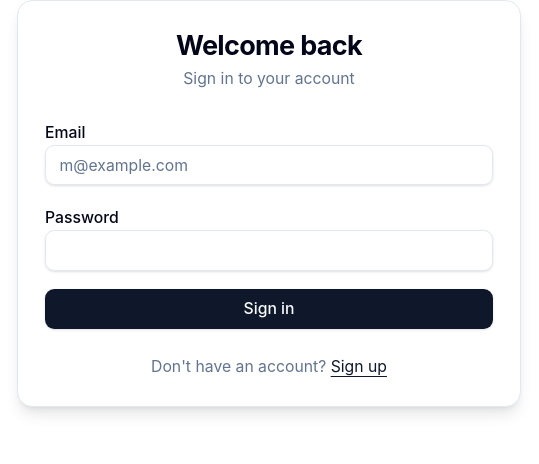
Test: LoginForm submission › sets field error when loginAsync rejects with field-level details
Type "user@example.com" into the field labelled "Email". click: {"x": 269, "y": 165}
box: [45, 145, 493, 186]
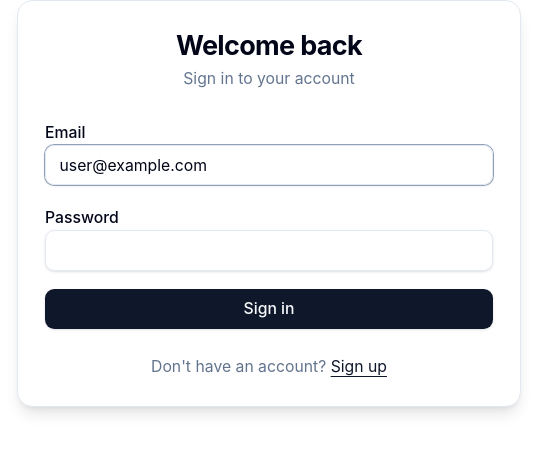
Type "ValidPass1!" into the password field labelled "Password". click: {"x": 269, "y": 251}
box: [45, 230, 493, 271]
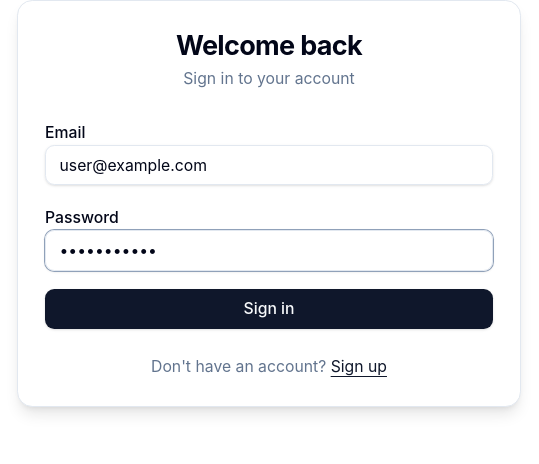
Click the button "Sign in". click: {"x": 269, "y": 309}
box: [45, 289, 493, 330]
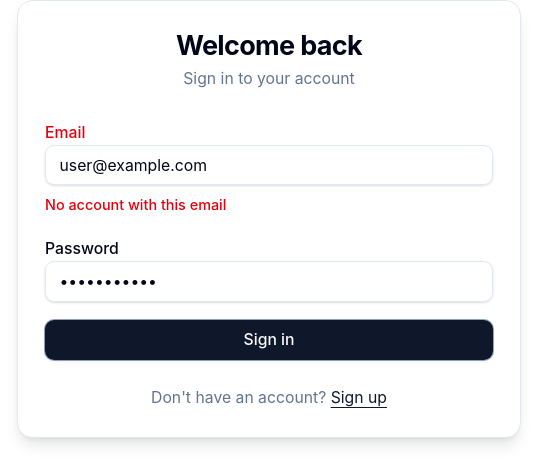
Expected: the text "No account with this email" is shown, [45, 196, 226, 214]
